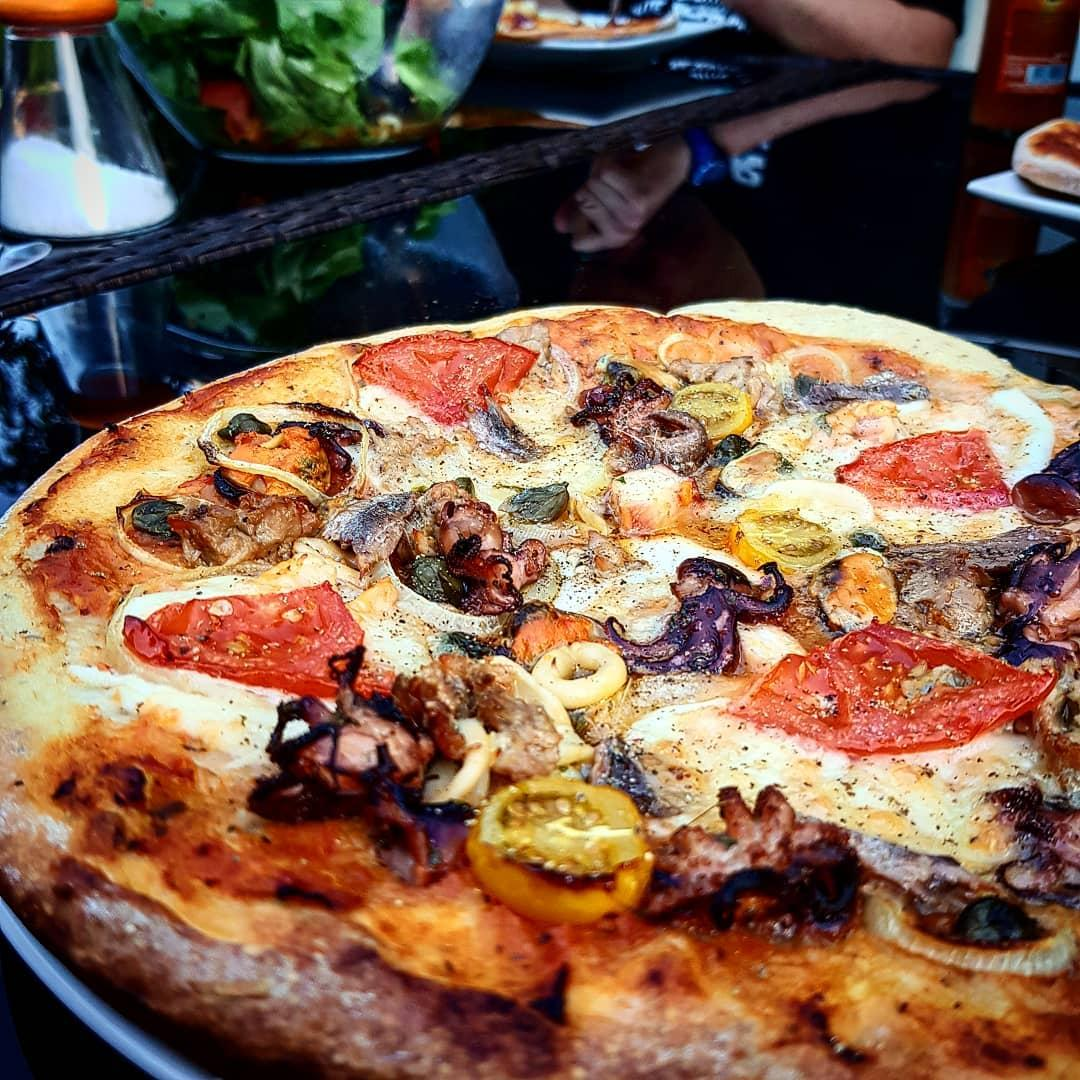Basil: (420, 617, 523, 669), (397, 544, 470, 610), (493, 476, 576, 529), (123, 487, 184, 555), (217, 406, 277, 440)
Pizza: (0, 293, 1080, 1080)
Tomatoes: (725, 622, 1060, 762), (120, 578, 402, 706), (467, 772, 655, 933), (347, 327, 544, 425), (829, 420, 1021, 515), (727, 500, 844, 583), (666, 375, 759, 449)
